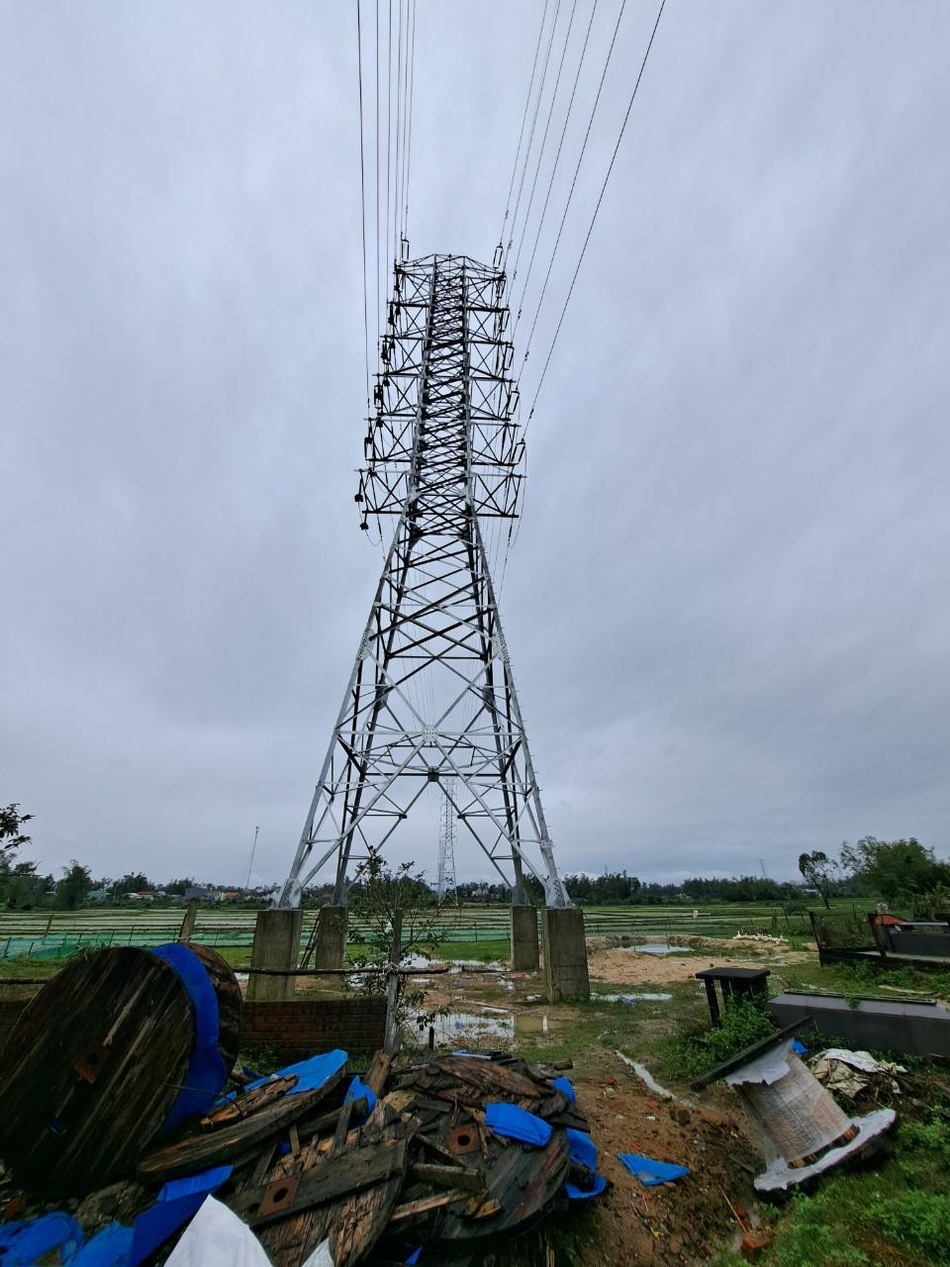power_tower: (301, 228, 544, 930)
